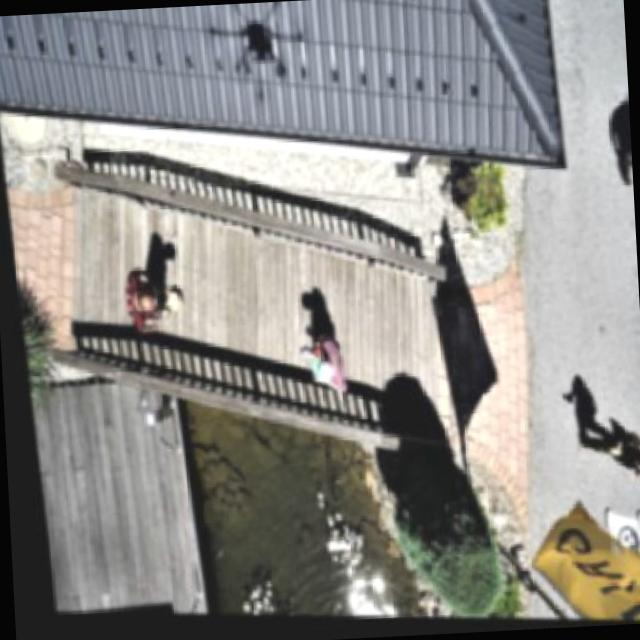Person: (558, 418, 640, 493), (110, 269, 170, 350), (292, 347, 338, 402)
